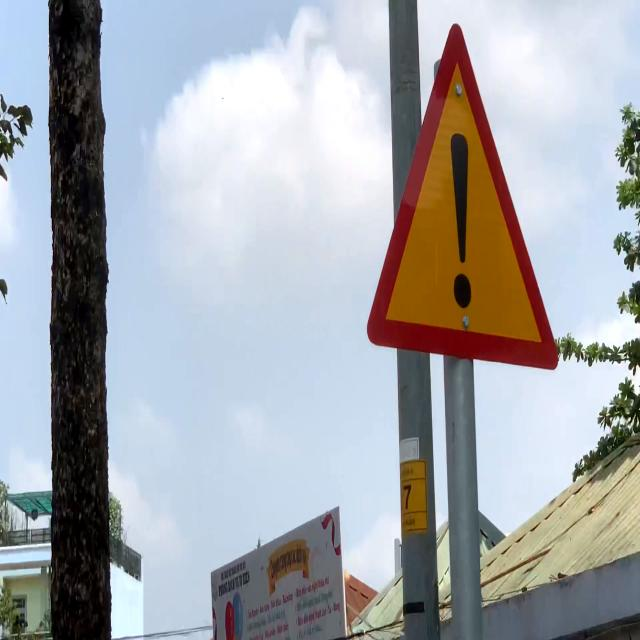W.233: (362, 19, 565, 382)
